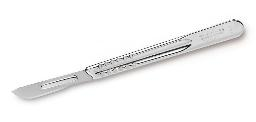scalpel: (12, 18, 244, 100)
